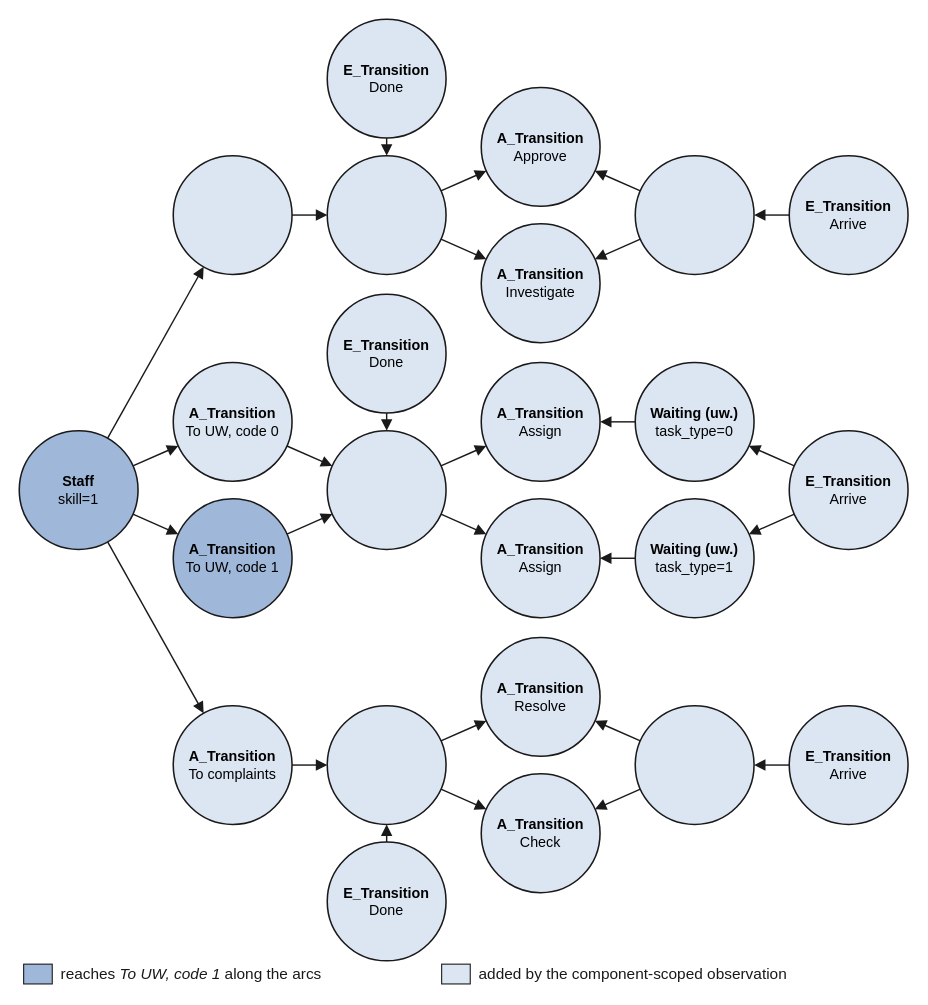
Some shapes in this 928 by 1005 pixel diagram are drawn without their labels. The shapes that lost their labels are listed below. From the top down, each one's centre as x and y in pixels, then its label:
At point 232,214: "A_Transition To claims".
At point 386,214: "Clerks (cl.) skill=0".
At point 694,214: "Waiting (cl.) risk=2".
At point 386,489: "Underwriters code=0".
At point 386,764: "Clerks (co.) skill=0".
At point 694,764: "Waiting (co.) risk=2, reworked=0".
